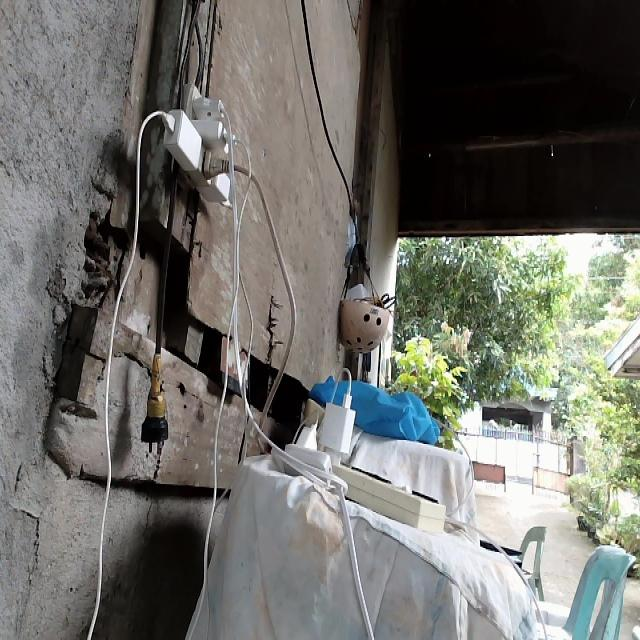-: (155, 69, 255, 219)
